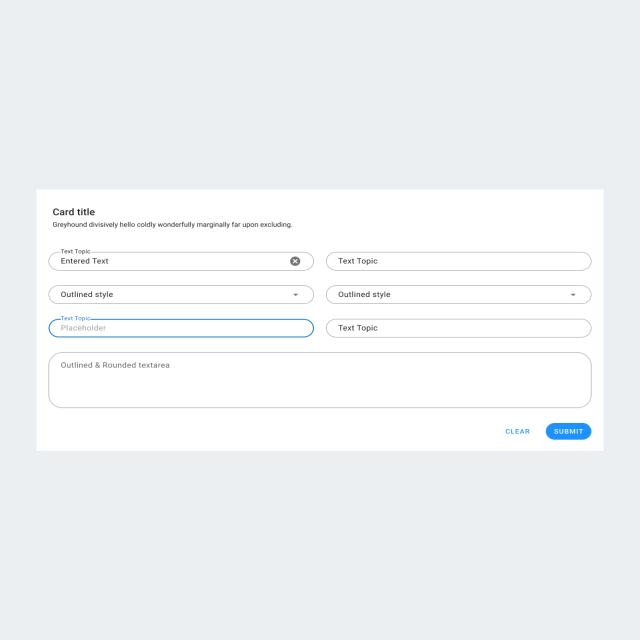QLabel: (51, 220, 294, 230), (50, 207, 98, 217), (554, 428, 584, 435), (505, 428, 530, 436)
VBtn: (546, 422, 592, 441), (499, 422, 536, 440)
VCard: (35, 189, 605, 452)
VCombobox: (325, 284, 592, 306), (48, 284, 314, 306)
VTextField: (48, 248, 314, 272), (48, 315, 314, 339), (326, 250, 591, 272), (326, 317, 591, 338)
VTextarea: (48, 351, 592, 410)
